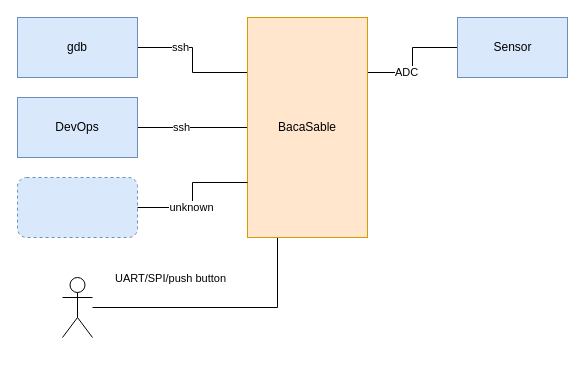
Image size: 585x376. Some labels were removed from this diagram. The shapes that lost their labels are listed below. From the top down, each one's box as (x1, y1, x2, y2) in pixels, then its label:
(16, 176, 138, 238): reserved
(62, 276, 92, 338): Human
